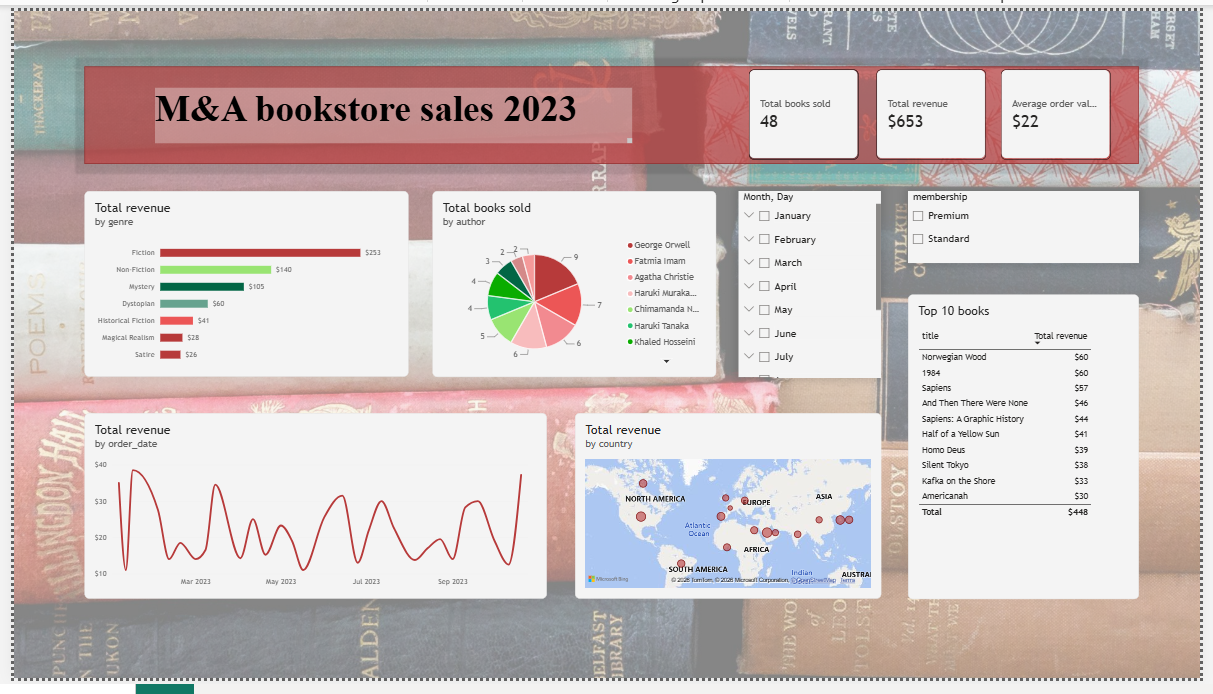

This screenshot's page, from the dashboard's own definition file:
{"tool":"powerbi","page":{"name":"Bookstore Sales","canvas":[1920,1080],"ordinal":0},"visuals":[{"type":"shape","box":[114.2,89.9,1707.5,157.9],"z":0},{"type":"cardVisual","fields":{"Data":["order_items.Total books sold"]},"box":[1190.1,95.5,177.3,145.7],"z":1000},{"type":"cardVisual","fields":{"Data":["order_items.Total revenue"]},"box":[1396.6,95.5,177.3,145.7],"z":2000},{"type":"barChart","fields":{"Y":["order_items.Total revenue"],"Category":["books.genre"]},"box":[114.5,291.1,524.9,300.6],"z":3000},{"type":"cardVisual","fields":{"Data":["order_items.Average order value"]},"box":[1598.2,95.5,177.3,145.7],"z":4000},{"type":"lineChart","fields":{"Y":["order_items.Total revenue"],"Category":["orders.order_date.Variation.Date Hierarchy.Month"]},"box":[113.4,652,748.4,300.5],"z":5000},{"type":"tableEx","title":"Top 10 books","fields":{"Values":["books.title","order_items.Total revenue"]},"box":[1447.6,459.1,374,493.1],"z":6000},{"type":"map","fields":{"Category":["customers.country"],"Size":["order_items.Total revenue"]},"box":[908.4,650.9,496.1,300.5],"z":7000},{"type":"slicer","fields":{"Values":["customers.membership"]},"box":[1448.5,292,374,116.6],"z":8000},{"type":"slicer","fields":{"Values":["Date.Date.Variation.Date Hierarchy.Month","Date.Date.Variation.Date Hierarchy.Day"]},"box":[1173.1,291.5,230.7,301.2],"z":9000},{"type":"textbox","title":"M&A bookstore sales 2023","box":[228.3,123.9,772.4,89.9],"z":10000},{"type":"pieChart","title":"Total books sold","fields":{"Category":["authors.author_name"],"Y":["order_items.Total books sold"]},"box":[677.5,292,459.1,301.2],"z":10001}]}

Visuals, with their boxes in screenshot pixels (x1, y1, x2, y2), scaled from the page's 1920x1080 canvas onto the 1213x694 screenshot:
shape: 72/58/1151/159
cardVisual - order_items.Total books sold: 752/61/864/155
cardVisual - order_items.Total revenue: 882/61/994/155
barChart - order_items.Total revenue x books.genre: 72/187/404/380
cardVisual - order_items.Average order value: 1010/61/1122/155
lineChart - order_items.Total revenue x orders.order_date.Variation.Date Hierarchy.Month: 72/419/544/612
"Top 10 books" tableEx: 915/295/1151/612
map - customers.country x order_items.Total revenue: 574/418/887/611
slicer - customers.membership: 915/188/1151/263
slicer - Date.Date.Variation.Date Hierarchy.Month x Date.Date.Variation.Date Hierarchy.Day: 741/187/887/381
"M&A bookstore sales 2023" textbox: 144/80/632/137
"Total books sold" pieChart: 428/188/718/381
